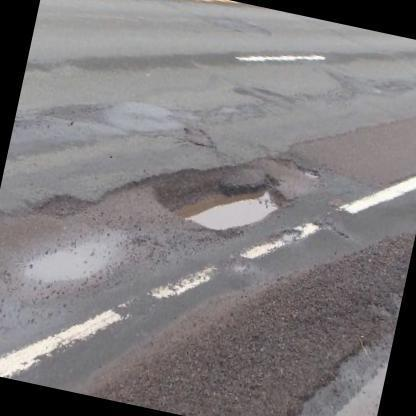pothole: (146, 170, 290, 232)
